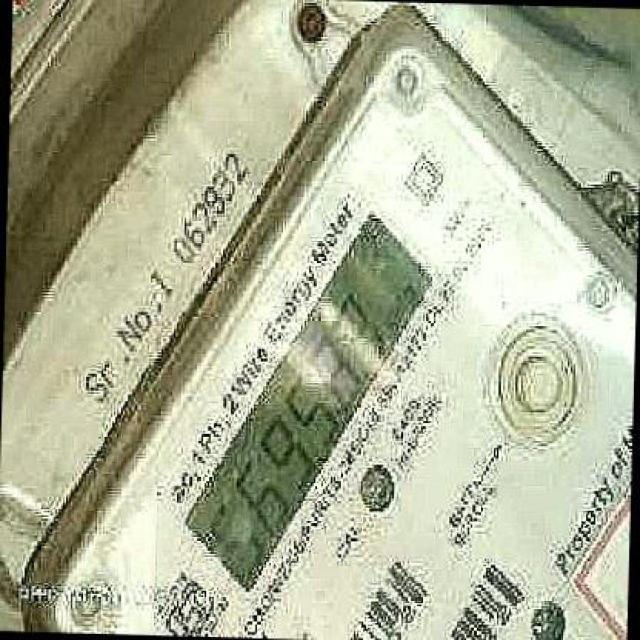display: (182, 211, 436, 590)
frame: (208, 285, 394, 583), (169, 143, 256, 262), (146, 258, 179, 306)
gauge: (24, 7, 640, 640)
